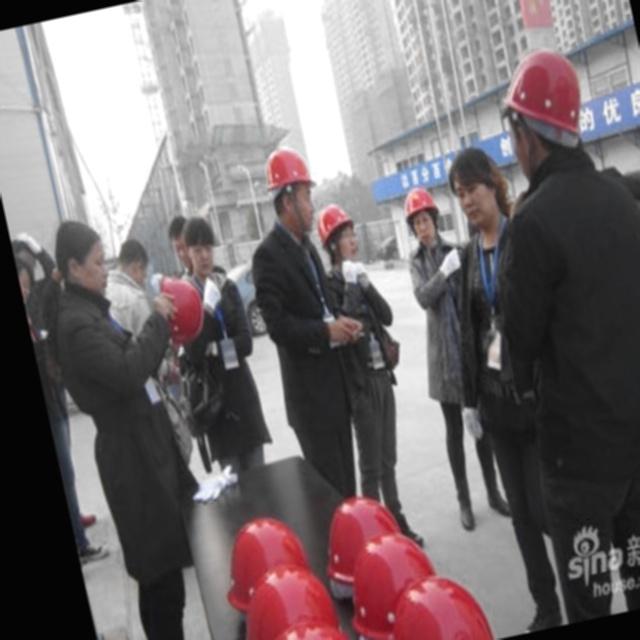Con_Casco: (259, 144, 319, 234), (398, 184, 444, 244)
Sin_Casco_Mascarrilla: (446, 146, 505, 233), (49, 216, 111, 298), (182, 214, 221, 275), (117, 237, 152, 287)
